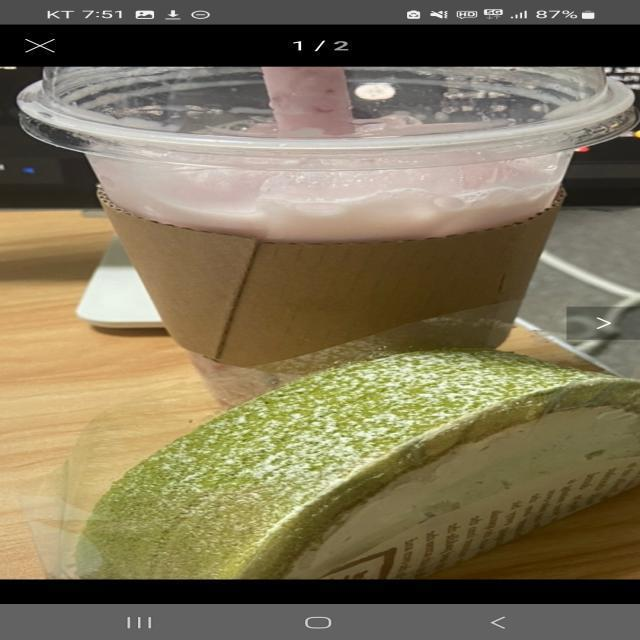cup: (78, 68, 630, 407)
